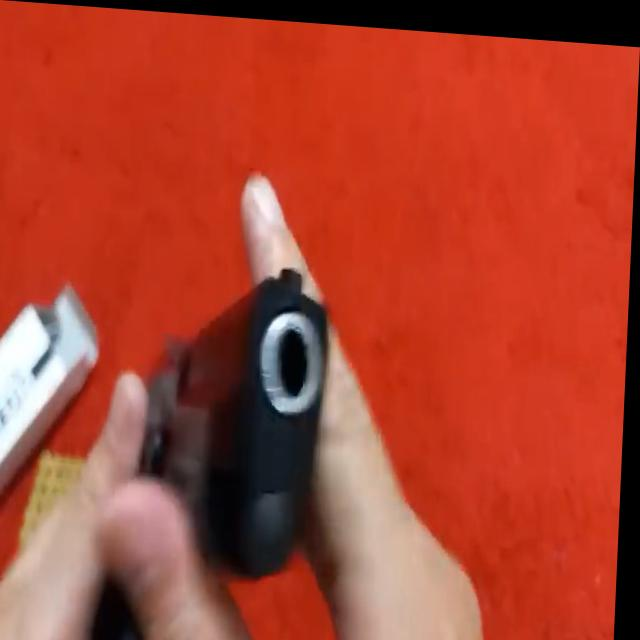handgun: (117, 238, 344, 571)
